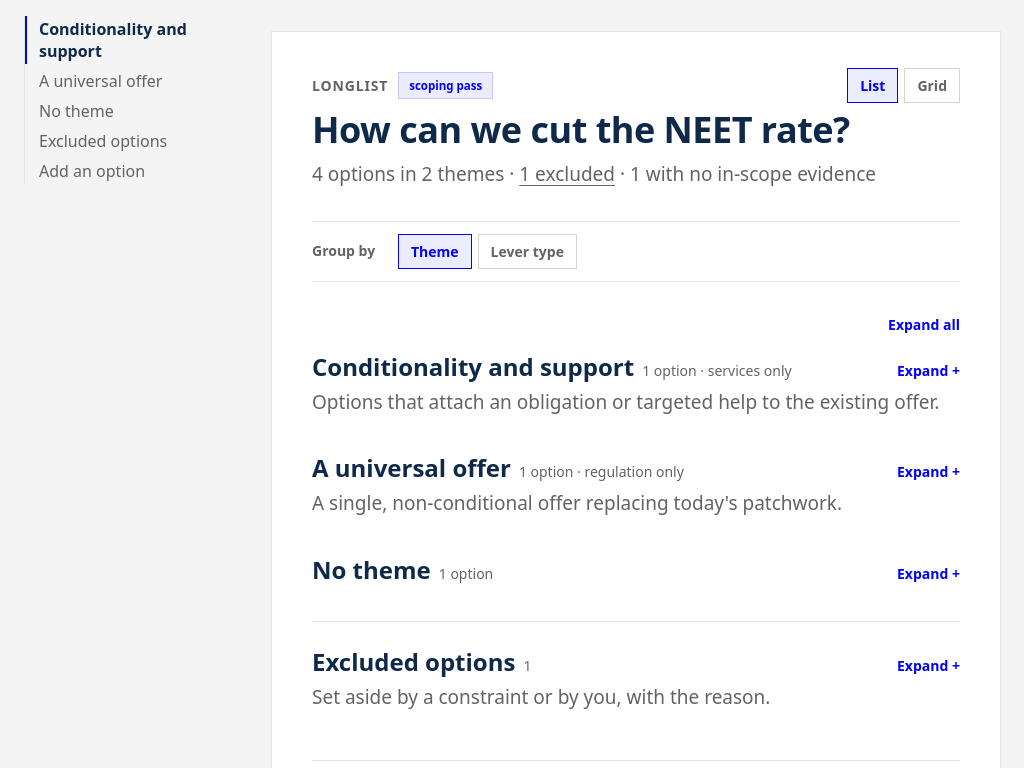
Test: LonglistView › opens with every theme collapsed and Expand all opens them
Check: the text "School-based mentoring" is not shown
What coordinates should you click on to do the following:
click the button "Expand all"
I would click on:
 (924, 324)
Its box is [888,314,960,334].
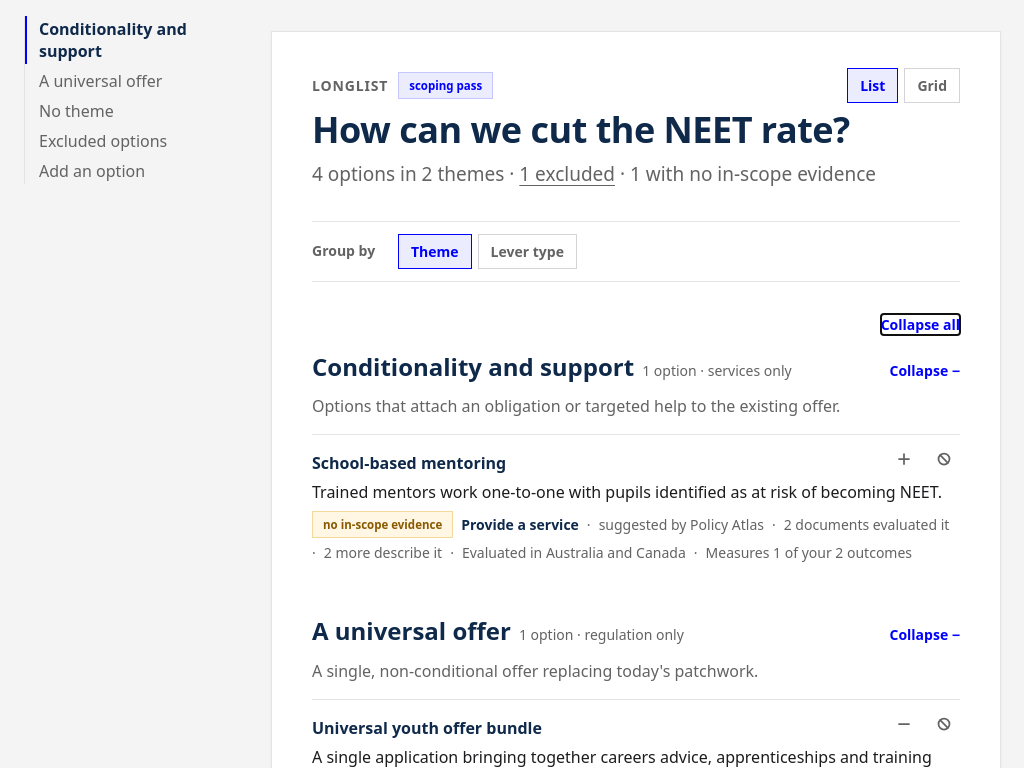
Check: the link "School-based mentoring" is shown, box [312,452,506,476]
